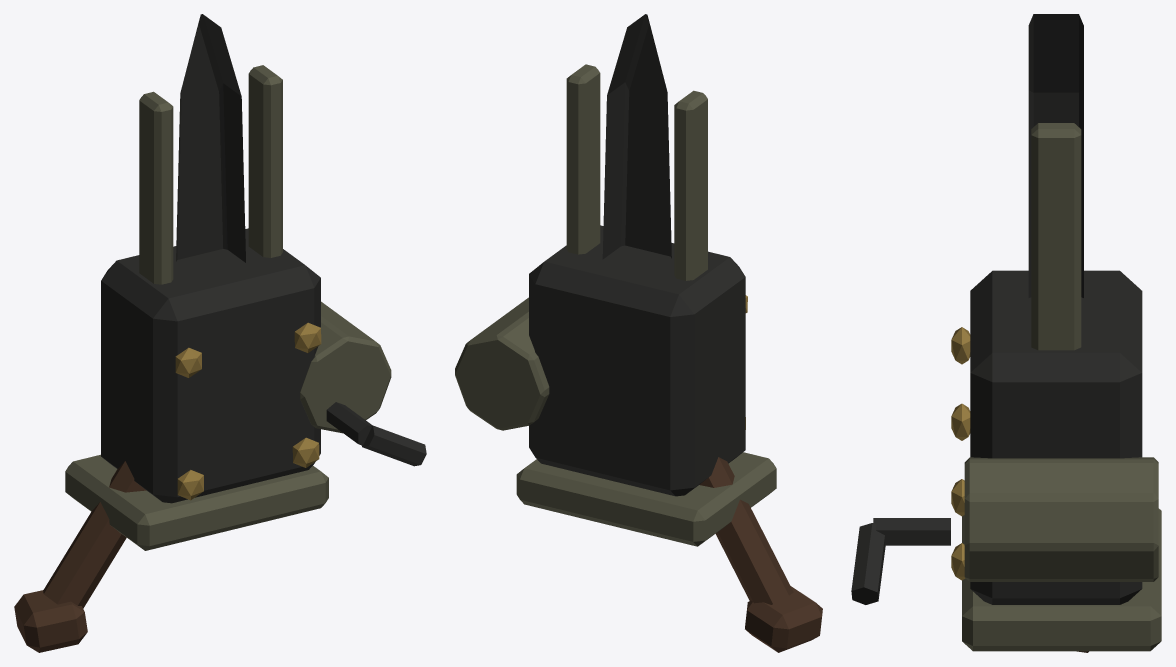
File: pile_bunker.obj
3 views of the same model, side by side, from view 1: azimuth 30°, elevation 25°; view 2: azimuth 150°, elevation 25°; view 3: azimuth 270°, elevation 25° (orthographic). The views are drawn at different scales.
Parts seen in each view (by area): view 1: B_MainHousing.001_wrought_iron, B_DriverSpike.001_wrought_iron, B_BackPlate.001_oxidized_bronze, A_SidePressureChamber.001_oxidized_bronze, B_Rail_L.001_oxidized_bronze, B_Rail_R.001_oxidized_bronze, A_GripStem.001_dark_wood, B_GripHeel.001_dark_wood, A_CrankArm.001_wrought_iron, A_CrankAxle.001_wrought_iron, A_GoldBolt_1.001_ritual_gold, A_GoldBolt_3.001_ritual_gold (+2 smaller); view 2: B_MainHousing.001_wrought_iron, B_DriverSpike.001_wrought_iron, B_BackPlate.001_oxidized_bronze, A_SidePressureChamber.001_oxidized_bronze, B_Rail_R.001_oxidized_bronze, B_Rail_L.001_oxidized_bronze, A_GripStem.001_dark_wood, B_GripHeel.001_dark_wood; view 3: B_MainHousing.001_wrought_iron, A_SidePressureChamber.001_oxidized_bronze, B_Rail_R.001_oxidized_bronze, B_BackPlate.001_oxidized_bronze, B_DriverSpike.001_wrought_iron, A_CrankArm.001_wrought_iron, A_CrankAxle.001_wrought_iron, A_GoldBolt_3.001_ritual_gold, A_GoldBolt_2.001_ritual_gold.
Part boxes in pixels (box(x1,y1,x2,y2)): B_MainHousing.001_wrought_iron: box(101, 228, 320, 503); B_DriverSpike.001_wrought_iron: box(176, 14, 245, 262); B_BackPlate.001_oxidized_bronze: box(65, 454, 328, 550); A_SidePressureChamber.001_oxidized_bronze: box(300, 301, 391, 433); B_Rail_L.001_oxidized_bronze: box(139, 91, 173, 284); B_Rail_R.001_oxidized_bronze: box(248, 65, 282, 257); A_GripStem.001_dark_wood: box(43, 461, 146, 608); B_GripHeel.001_dark_wood: box(14, 590, 87, 652); A_CrankArm.001_wrought_iron: box(362, 425, 426, 466); A_CrankAxle.001_wrought_iron: box(326, 402, 372, 445); A_GoldBolt_1.001_ritual_gold: box(292, 437, 319, 467); A_GoldBolt_3.001_ritual_gold: box(294, 322, 321, 352); B_MainHousing.001_wrought_iron: box(529, 225, 745, 496); B_DriverSpike.001_wrought_iron: box(602, 14, 671, 259); B_BackPlate.001_oxidized_bronze: box(516, 452, 776, 546); A_SidePressureChamber.001_oxidized_bronze: box(455, 297, 549, 430); B_Rail_R.001_oxidized_bronze: box(566, 64, 600, 254); B_Rail_L.001_oxidized_bronze: box(674, 90, 707, 280); A_GripStem.001_dark_wood: box(699, 457, 793, 604); B_GripHeel.001_dark_wood: box(745, 586, 822, 652); B_MainHousing.001_wrought_iron: box(970, 270, 1142, 604); A_SidePressureChamber.001_oxidized_bronze: box(964, 457, 1158, 581); B_Rail_R.001_oxidized_bronze: box(1031, 123, 1081, 350); B_BackPlate.001_oxidized_bronze: box(962, 508, 1161, 651); B_DriverSpike.001_wrought_iron: box(1028, 14, 1083, 297); A_CrankArm.001_wrought_iron: box(851, 523, 885, 604); A_CrankAxle.001_wrought_iron: box(873, 518, 950, 545); A_GoldBolt_3.001_ritual_gold: box(951, 403, 970, 440); A_GoldBolt_2.001_ritual_gold: box(951, 327, 970, 364).
Bounding box in the file's own units: 1.7 × 2.87 × 1.12.
